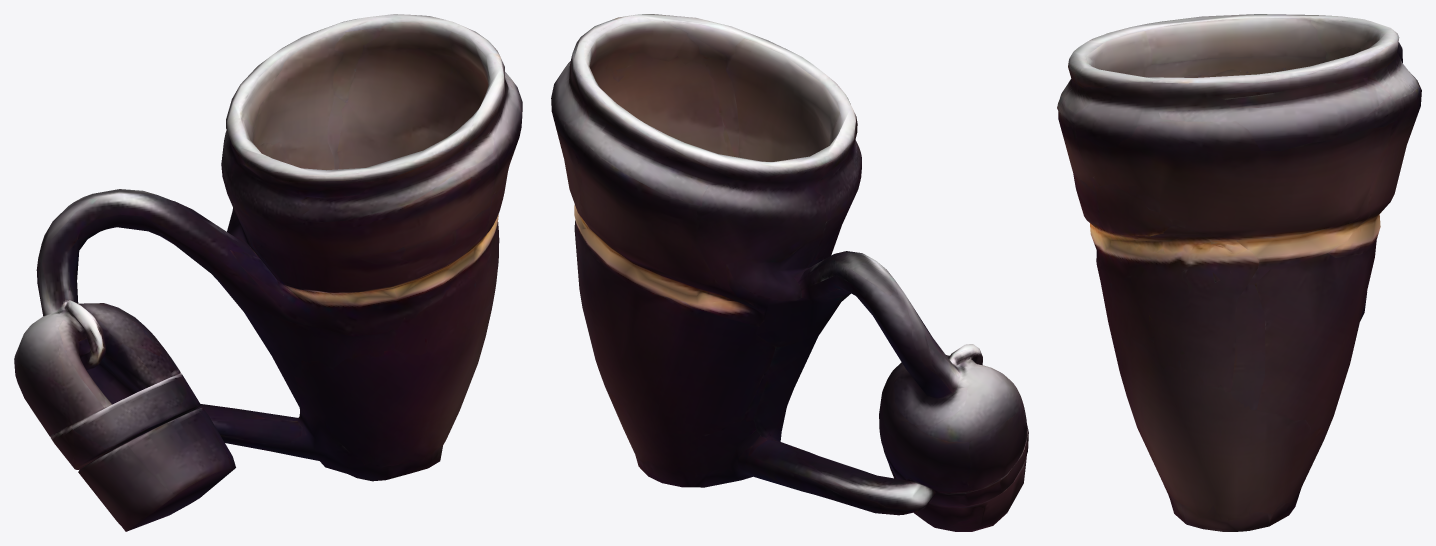
3 renders of one model, left to right at view 1: azimuth 30°, elevation 25°; view 2: azimuth 150°, elevation 25°; view 3: azimuth 270°, elevation 25°, orthographic. The views are drawn at different scales.
Parts seen in each view (by area): view 1: node_0; view 2: node_0; view 3: node_0.
Part boxes in pixels (x1,y1,x2,y2): node_0: (14,14,522,531); node_0: (551,14,1028,531); node_0: (1057,14,1421,531).
Size of the model in its own units: 0.9604 by 0.8196 by 0.5524.
Materials: 1 (1 with a texture image).
